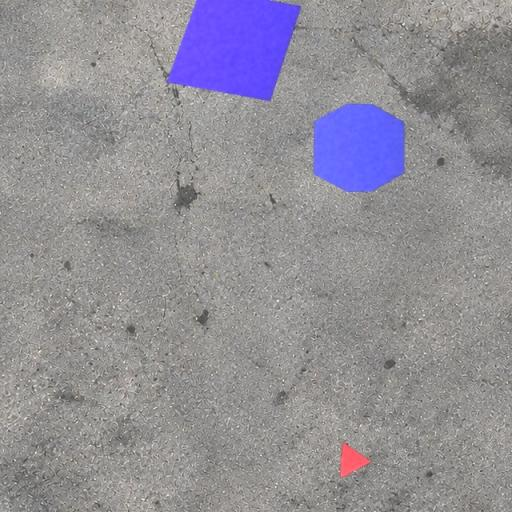BLUE_SQUARE: (167, 0, 302, 102)
